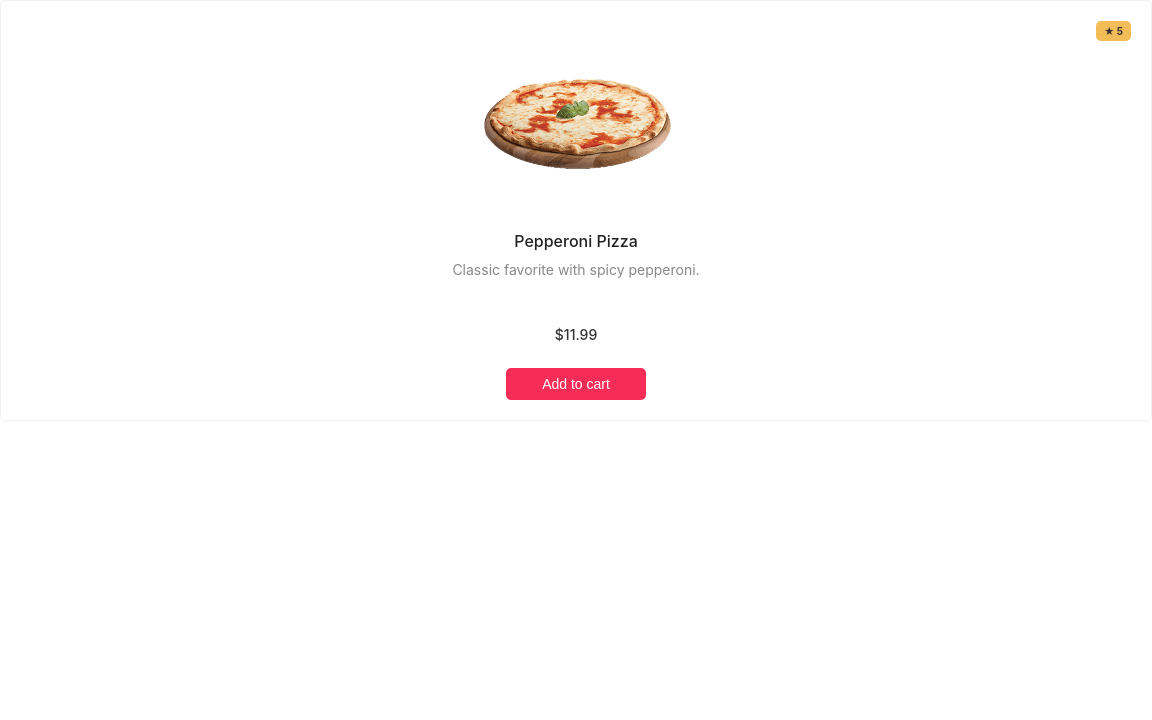
Test case: ProductCard › updates the price when toppings are selected
Click the picture with alt text "Pepperoni Pizza" at (576, 121), box [466,60,686,182]
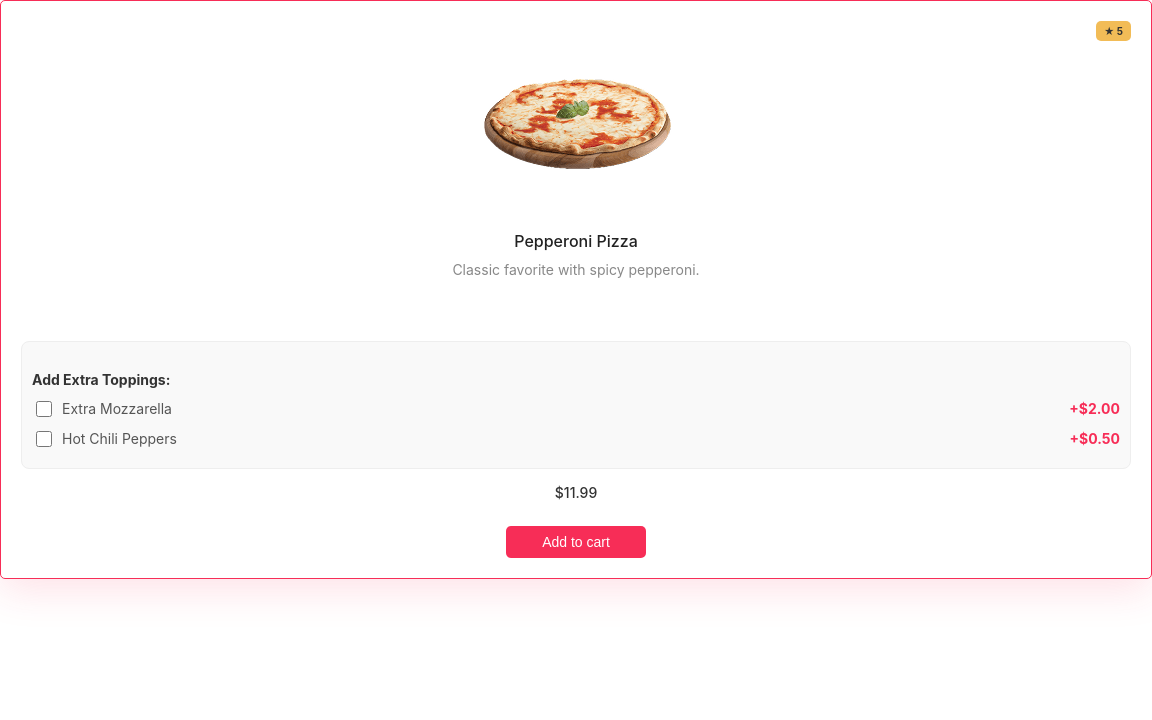
Click the checkbox labelled "Extra Mozzarella +$2.00" at (44, 409), box [36,401,52,417]
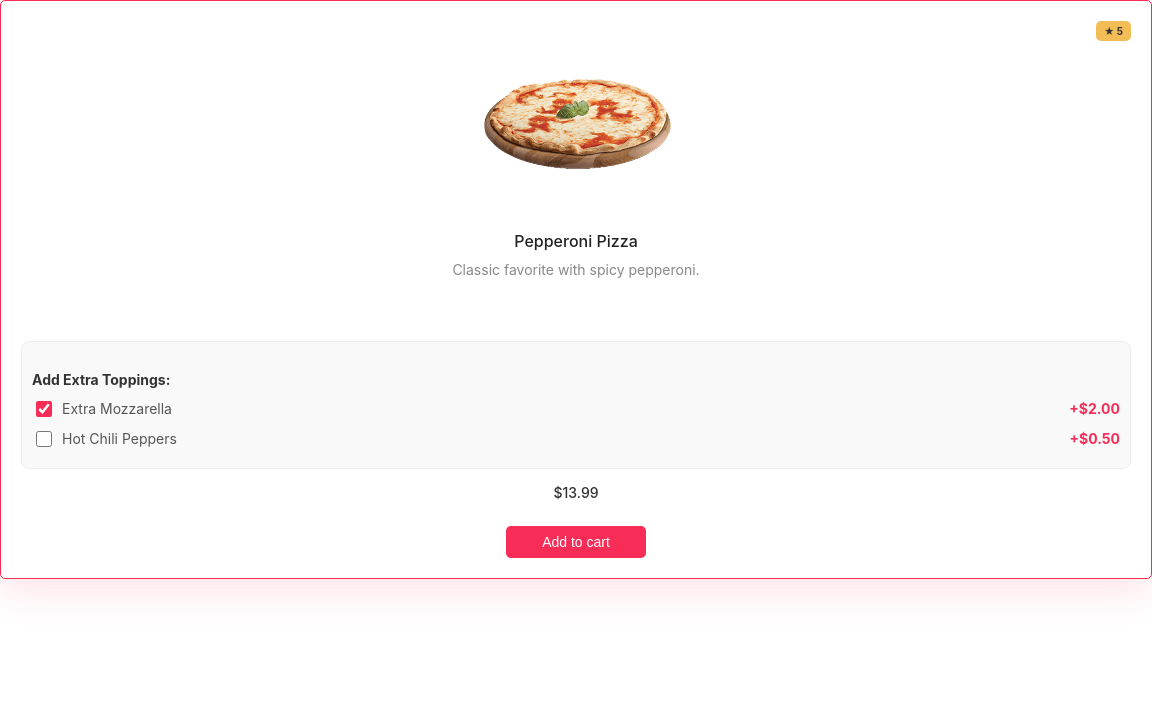
Now the text "$13.99" is shown, box [554,484,599,501]
Click the checkbox labelled "Hot Chili Peppers +$0.50" at (44, 439), box [36,431,52,447]
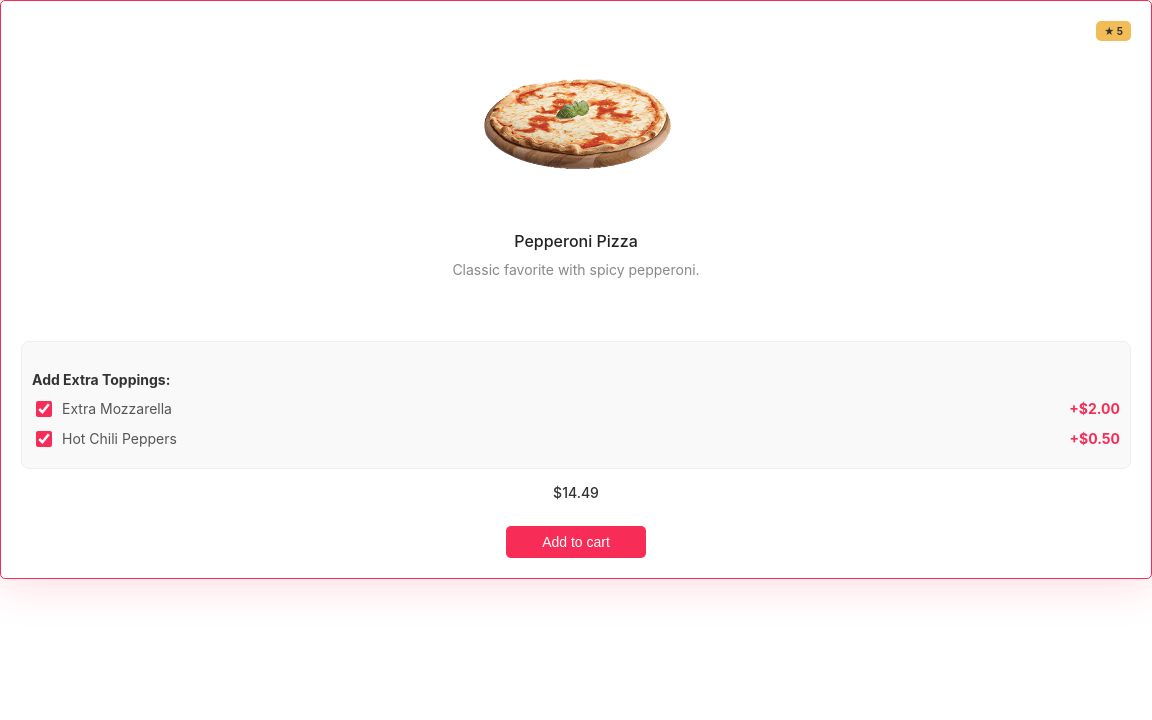
Now the text "$14.49" is shown, box [553,484,599,501]
